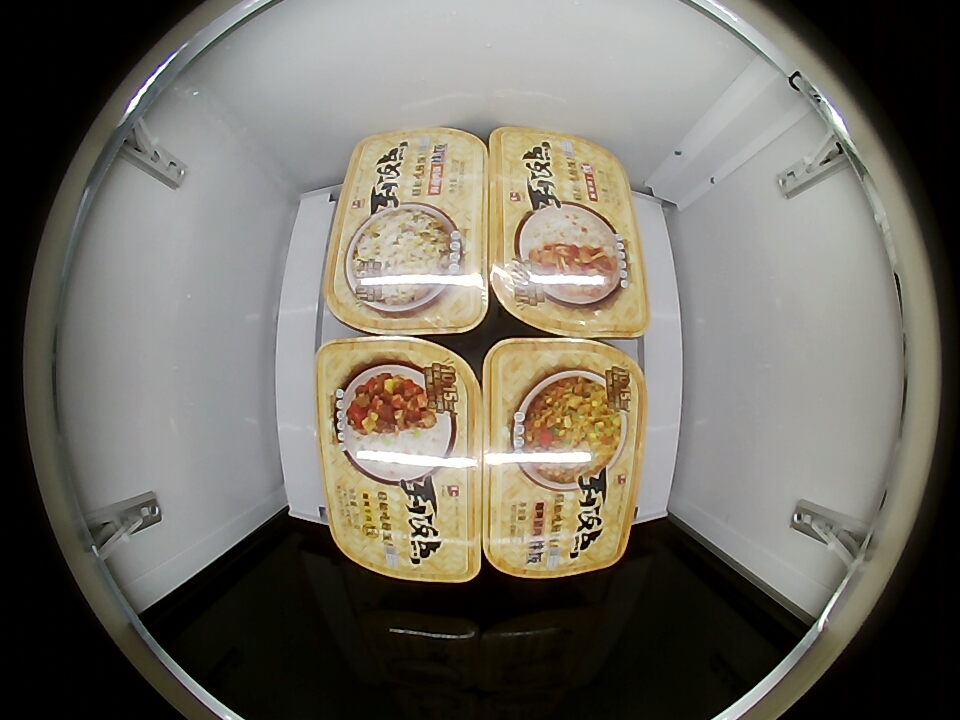daofandian1: (324, 127, 492, 337)
daofandian2: (316, 335, 482, 583)
daofandian3: (481, 335, 645, 580)
daofandian4: (487, 128, 648, 340)
